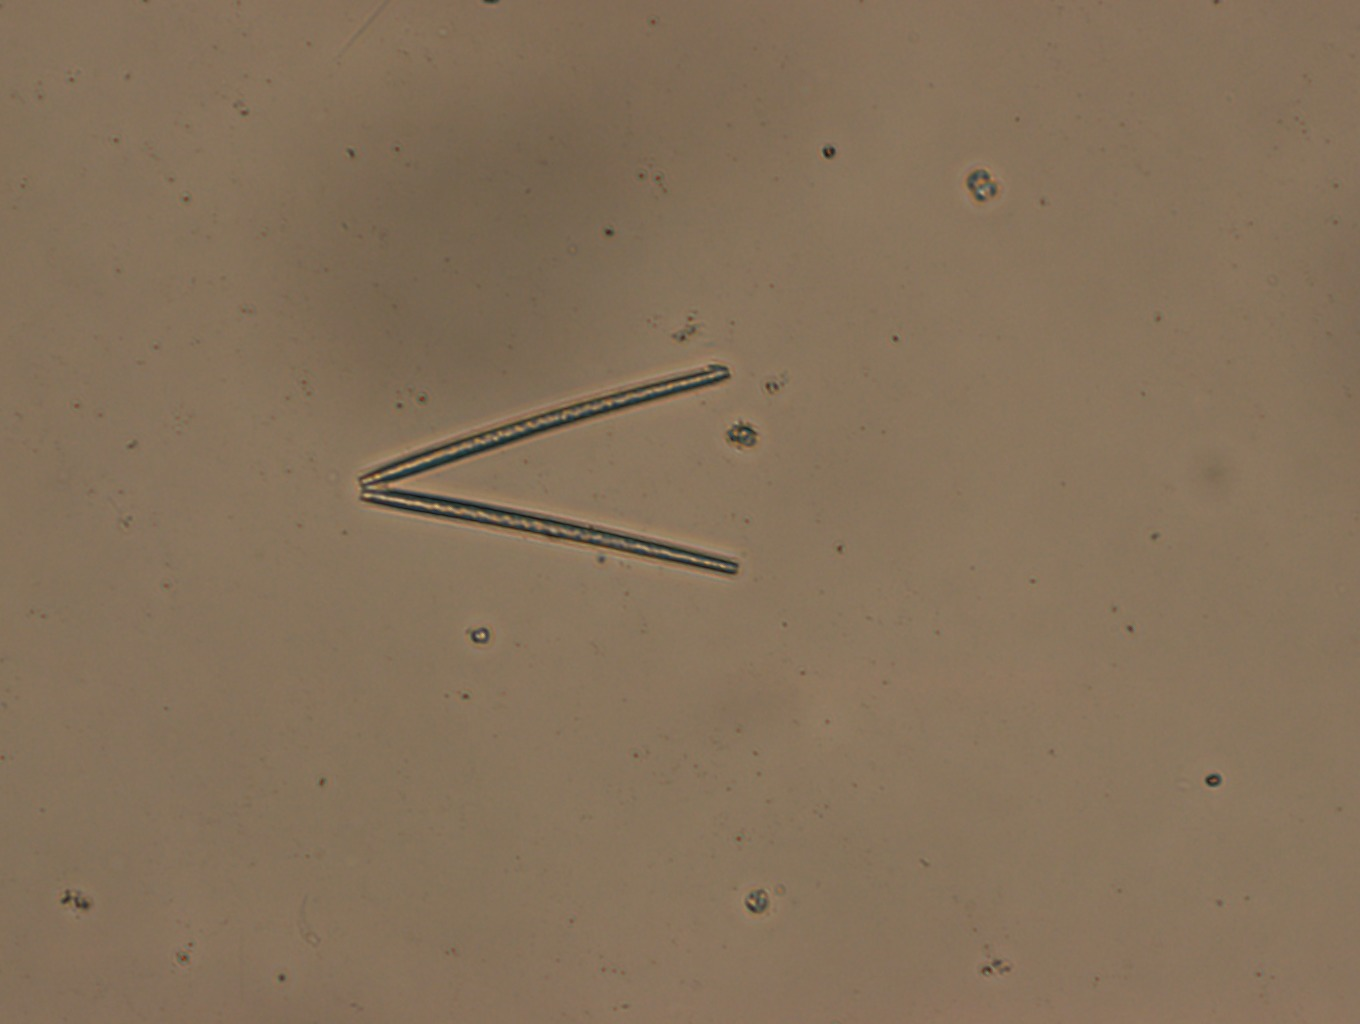thalassionema frauenfeldii: (349, 347, 746, 591)
